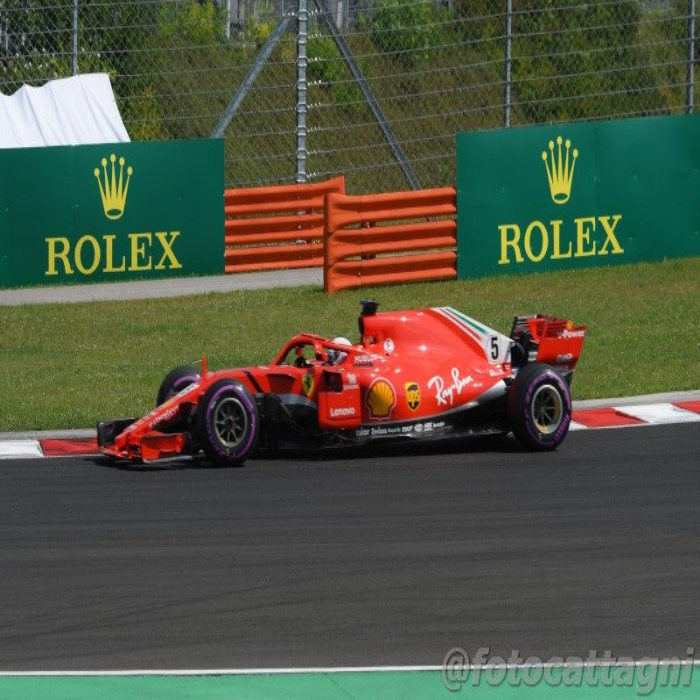f1_car: (92, 297, 603, 478)
